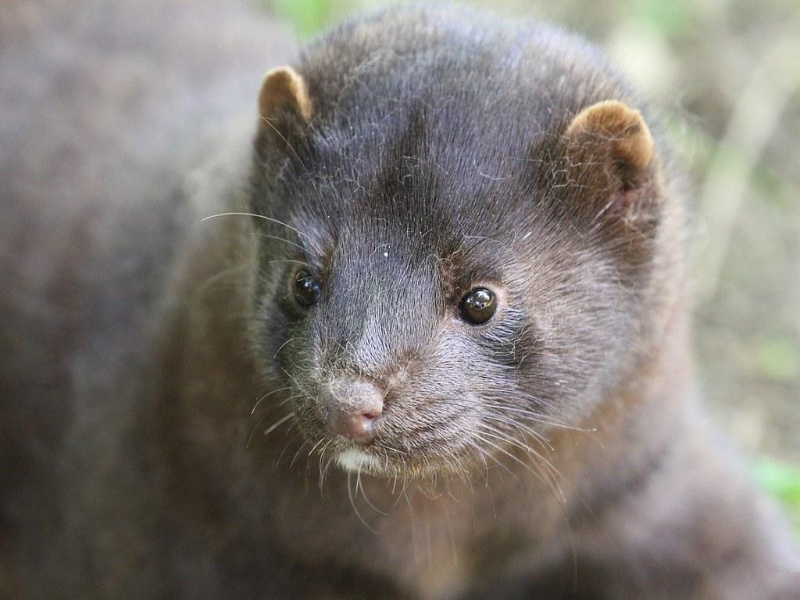minkish: (224, 3, 688, 494)
